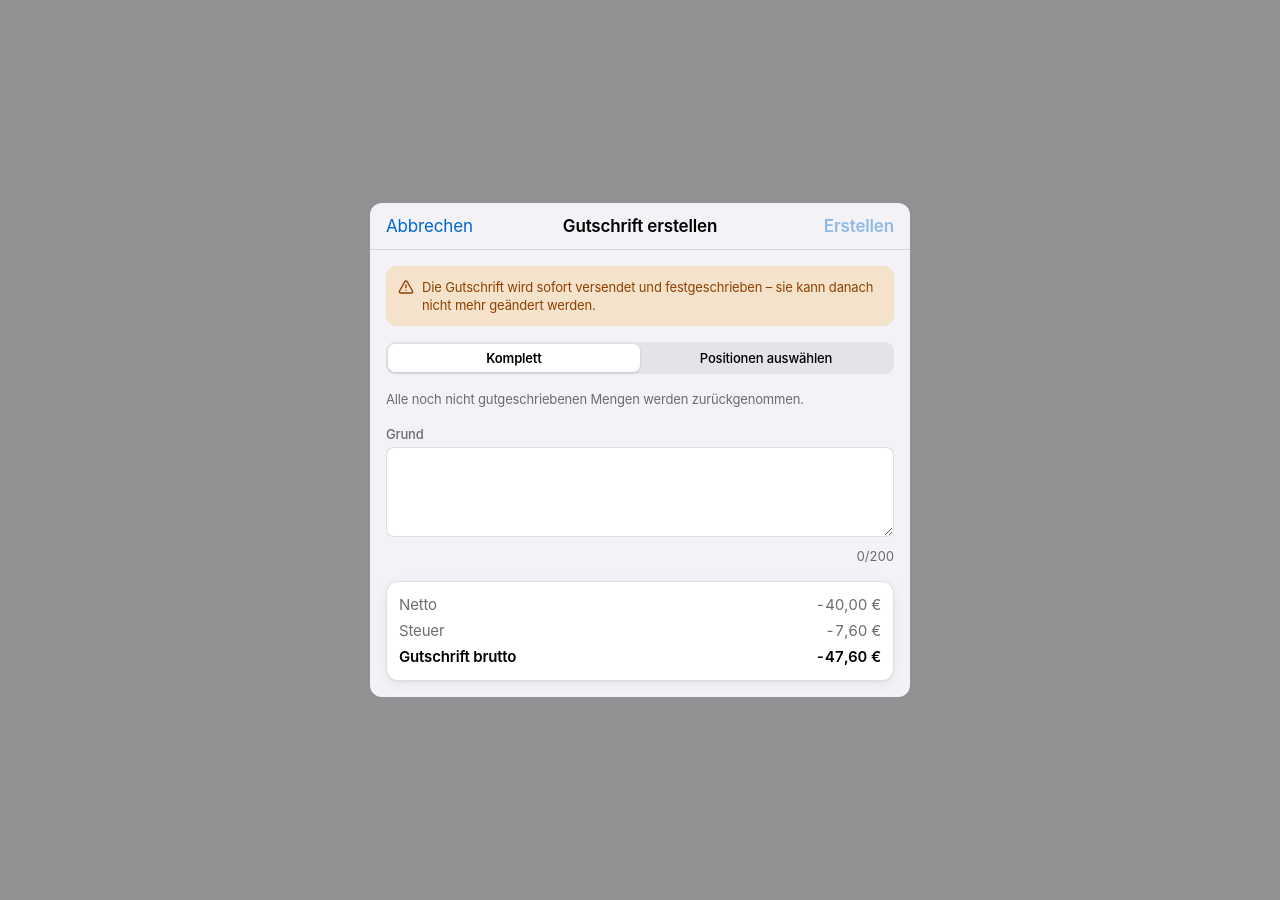
Test case: GutschriftSheet › Positionen: Abzugspositionen fehlen, voll gutgeschriebene sind gesperrt
Click the button "Positionen auswählen": (766, 358) [640,344,892,372]
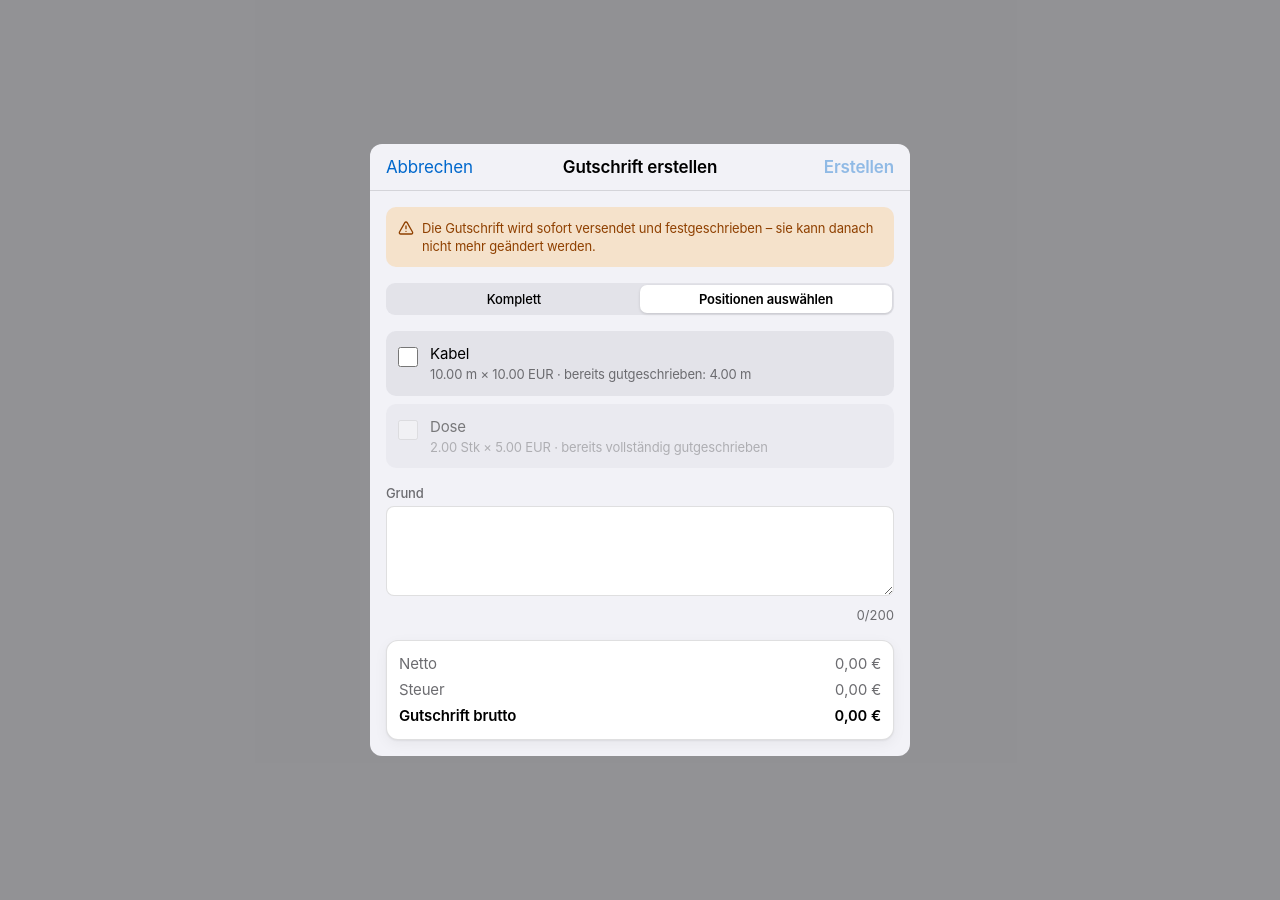
Result: the checkbox named "Position 1 auswählen" is enabled at [398,347,418,367]
Result: the text "2.00 Stk × 5.00 EUR · bereits vollständig gutgeschrieben" is shown at [430,438,768,454]
